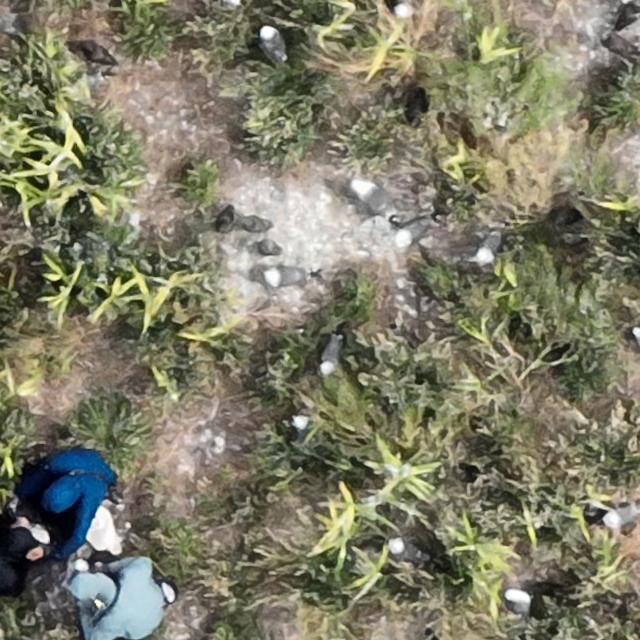umineko: (351, 180, 396, 218), (260, 28, 284, 62), (264, 267, 306, 285), (476, 232, 502, 260), (321, 336, 342, 370), (604, 506, 639, 526), (391, 540, 423, 561), (396, 221, 428, 242), (295, 412, 316, 444), (505, 587, 530, 613), (161, 582, 176, 602)
